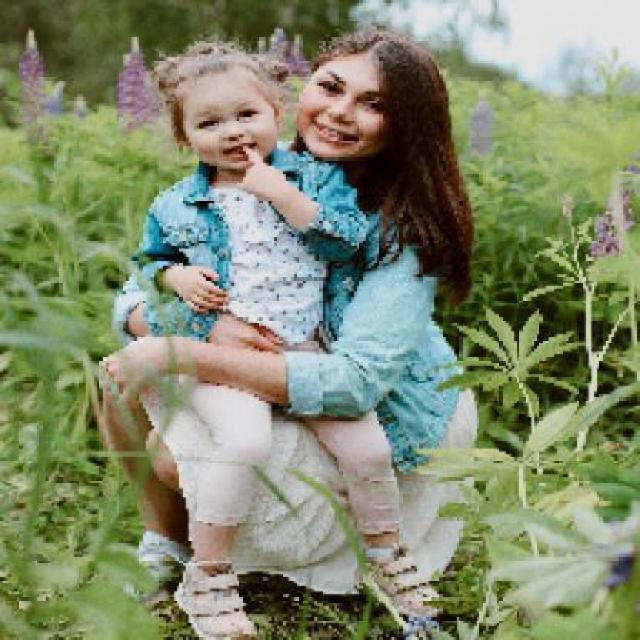child: (126, 40, 446, 637)
